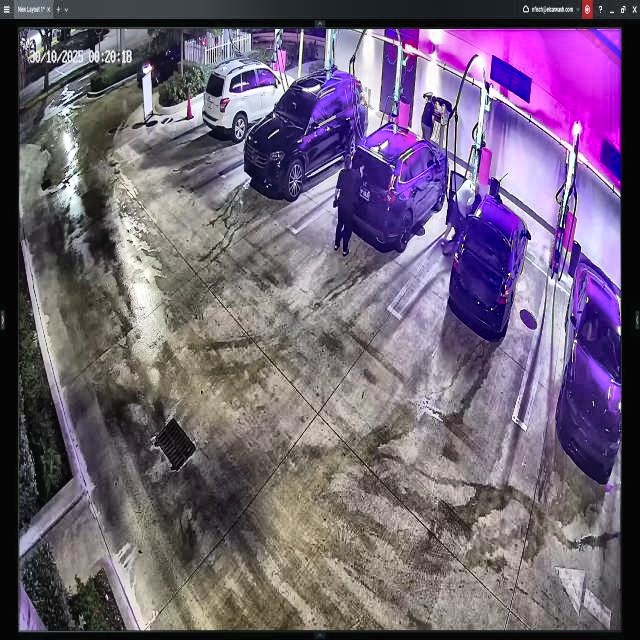Car: (244, 68, 368, 195), (447, 172, 528, 338), (343, 136, 448, 254)
